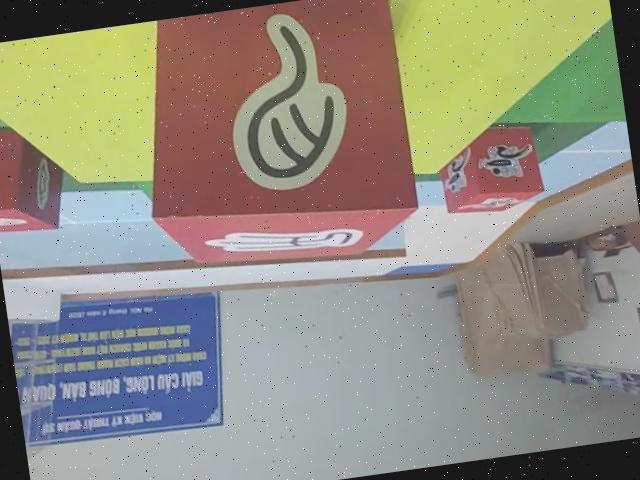R1: (438, 117, 552, 223)
R2 Fake: (126, 0, 428, 288)
R2 Real: (0, 110, 74, 241)
